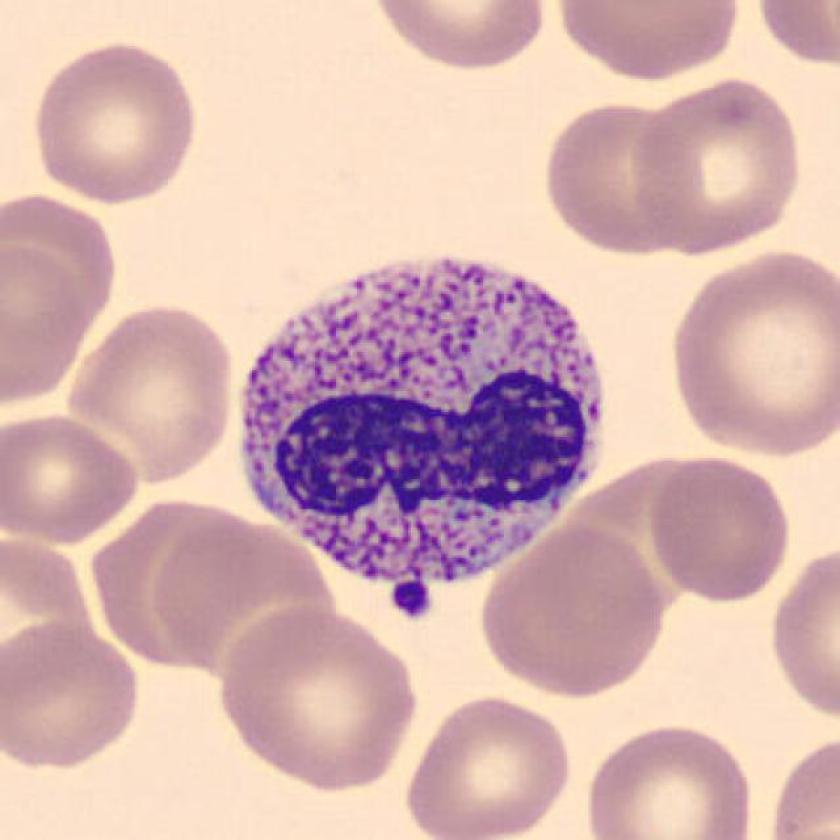neutrophil: (244, 258, 599, 584)
